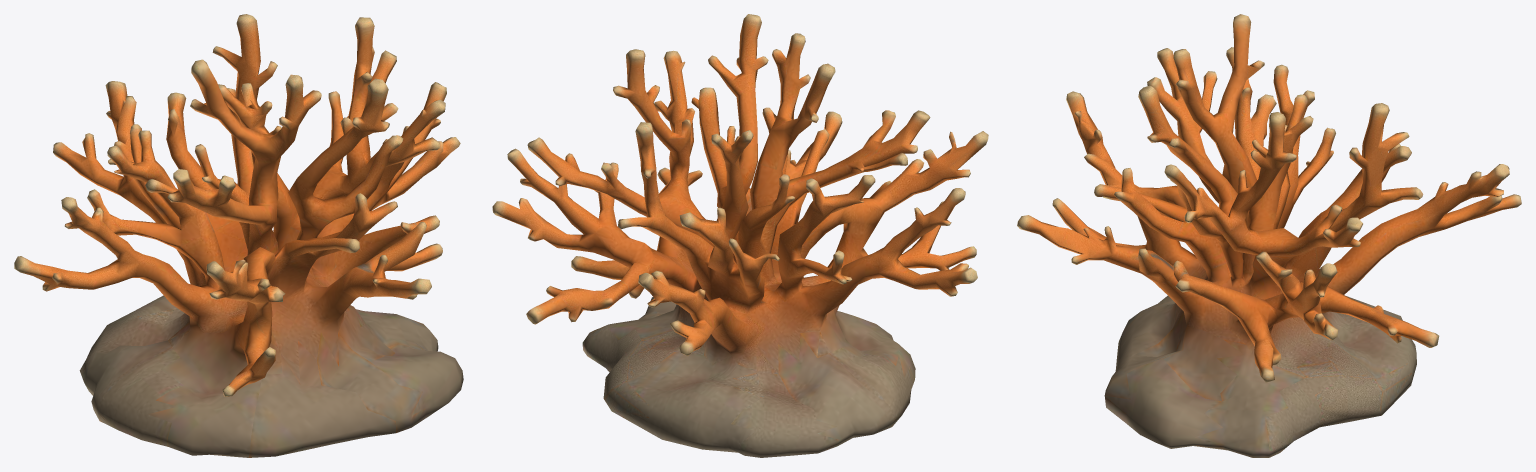
File: coral-staghorn.glb
The picture shows the model from 3 angles, left to right: view 1: azimuth 30°, elevation 25°; view 2: azimuth 150°, elevation 25°; view 3: azimuth 270°, elevation 25°; orthographic projection. The views are drawn at different scales.
Bounding box in the file's own units: 0.9536 × 0.6777 × 0.9253.
Materials: 1 (1 with a texture image).
